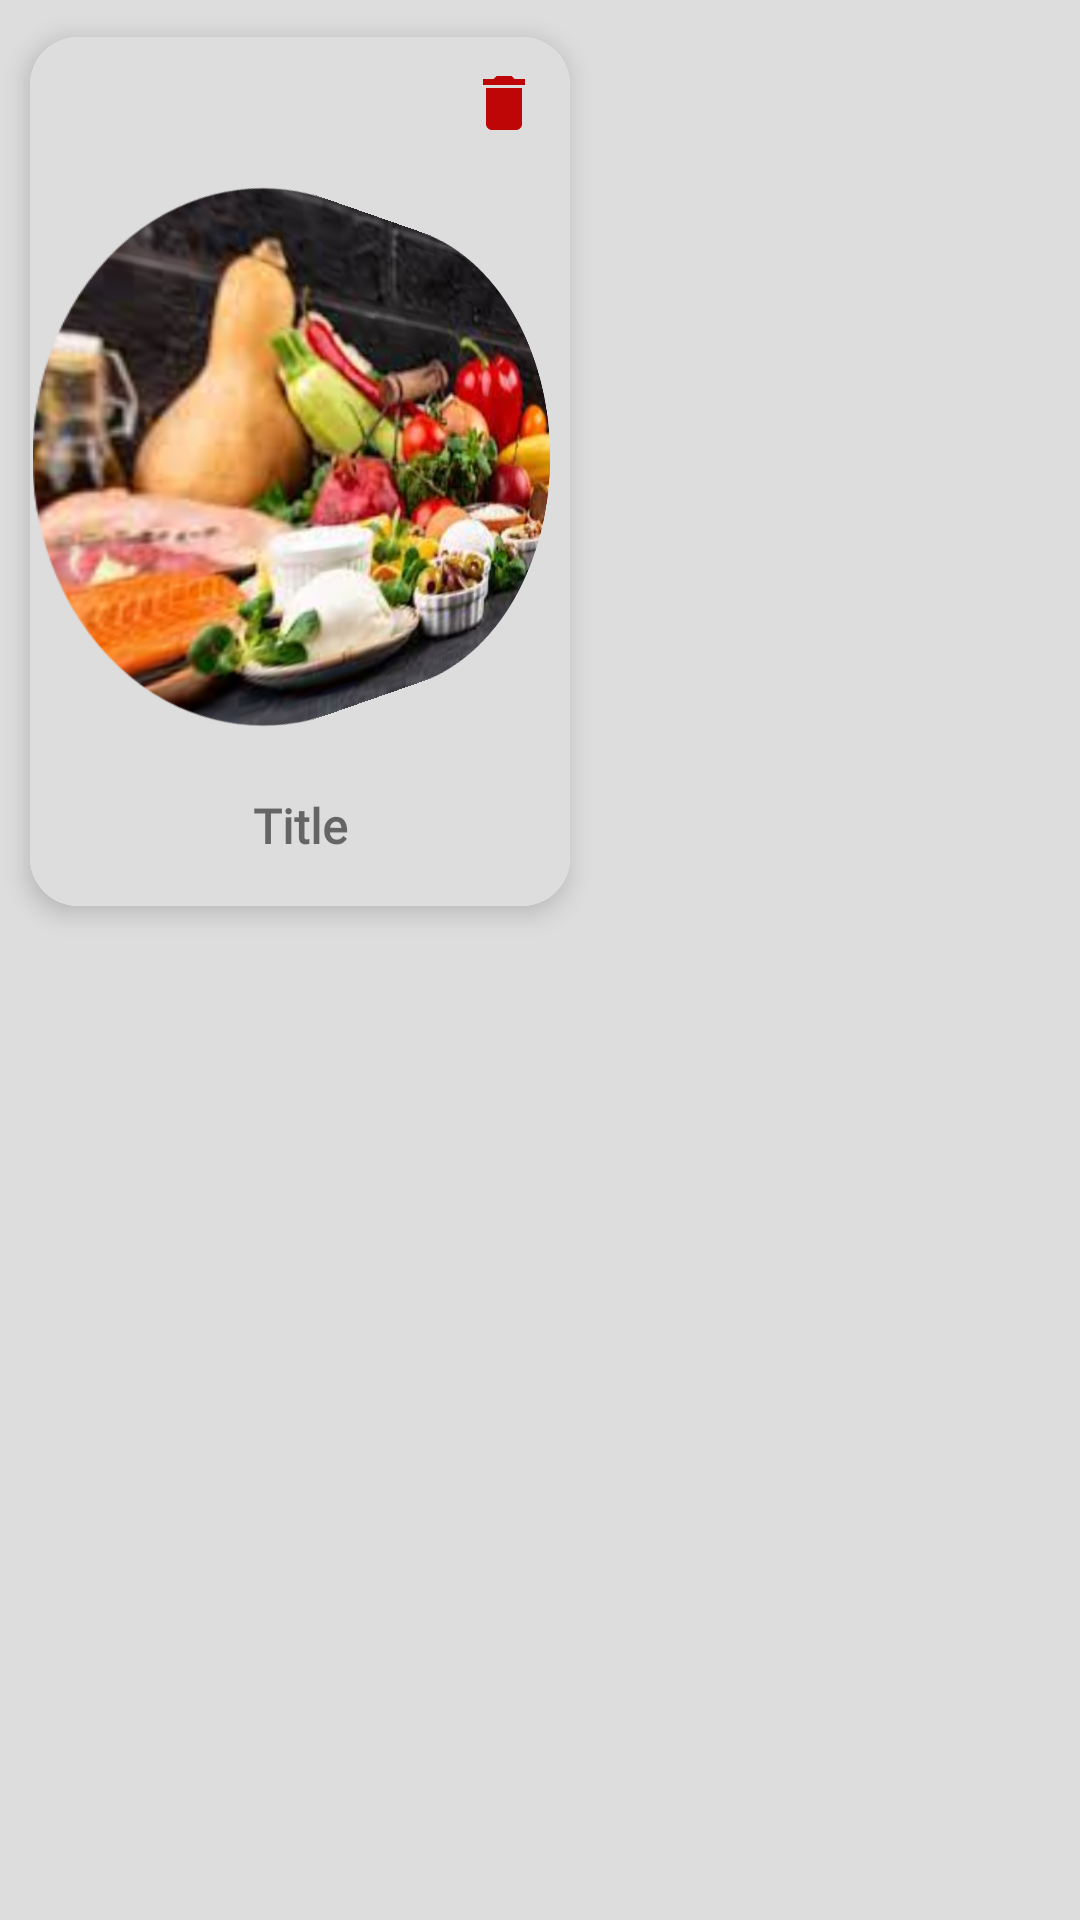

Locate icon controls on the screen. Image size 1080 x 1920, boxes as [x1,y1,x2,y2].
delete: [483,76,525,130]
